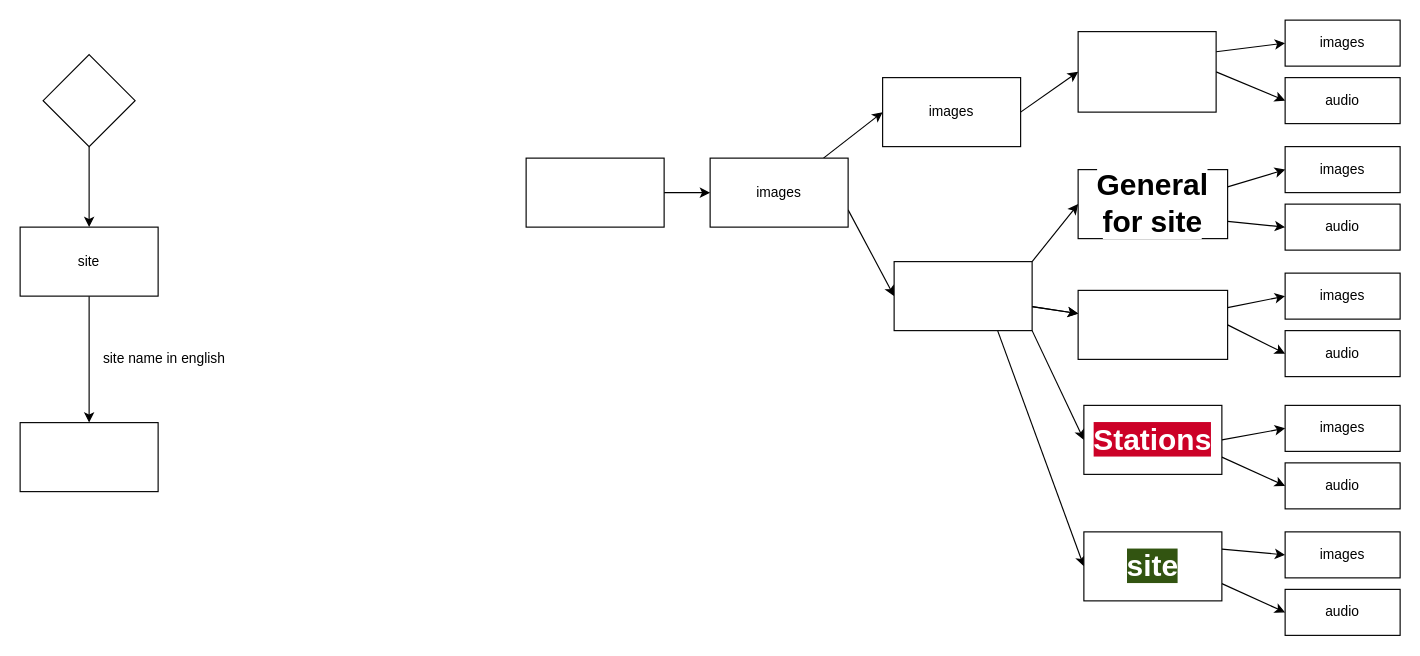
Image size: 1420x656. Some labels were removed from this diagram. Here are the shapes that lost their labels. From the top down, the centre of each, then its label:
point 1146,71: General
point 88,100: create
point 594,192: taalmedia
point 1152,324: Tasks
point 88,456: create a folder with site name in english
